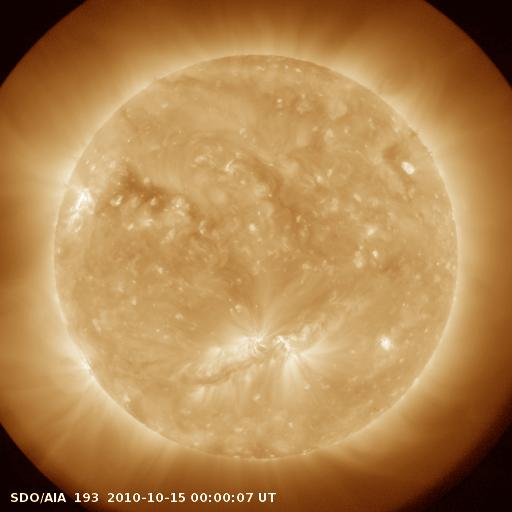coronal_hole: (93, 154, 183, 215)
